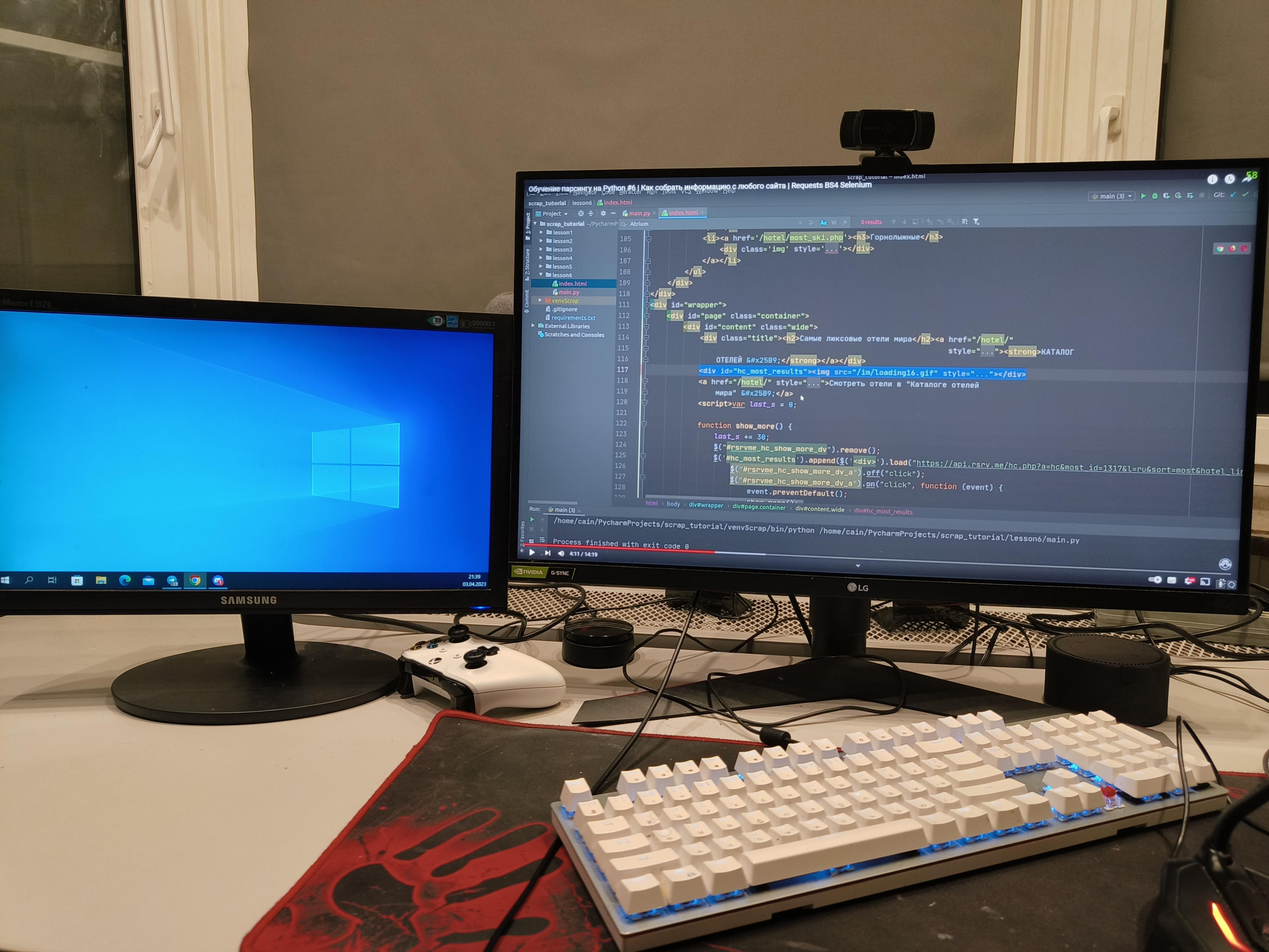monitor: (508, 155, 1269, 620), (0, 282, 517, 626)
